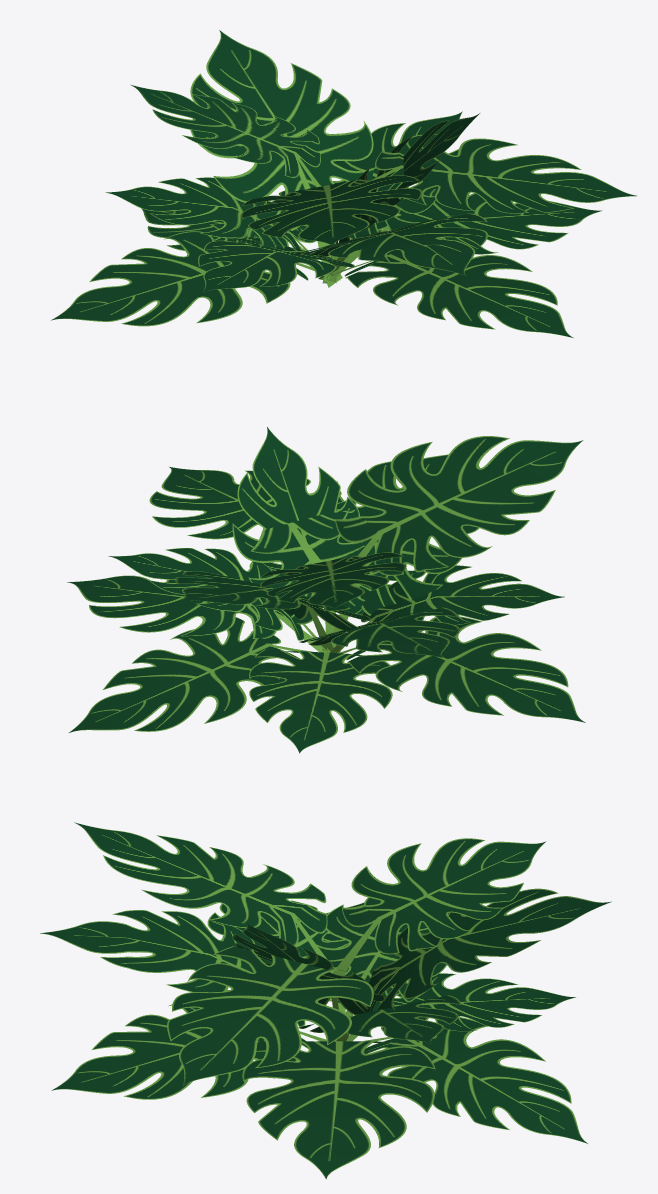
File: Palm5_LOD1.fbx
3 renders of one model, top to bottom at view 1: azimuth 30°, elevation 25°; view 2: azimuth 150°, elevation 25°; view 3: azimuth 270°, elevation 25°, orthographic. The views are drawn at different scales.
Visible parts, largest first — view 1: Palm5_LOD1; view 2: Palm5_LOD1; view 3: Palm5_LOD1.
Part boxes in pixels (x1=…): Palm5_LOD1: x1=51, y1=30, x2=636, y2=337; Palm5_LOD1: x1=67, y1=427, x2=585, y2=753; Palm5_LOD1: x1=40, y1=822, x2=611, y2=1179.
Size of the model in its own units: 688 by 235 by 651.
